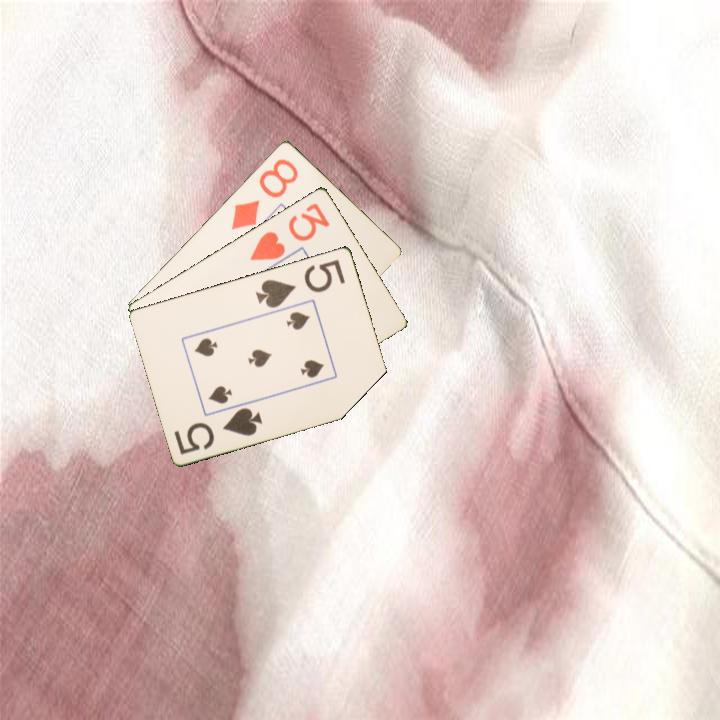3h: (246, 199, 333, 263)
5s: (252, 255, 348, 311), (170, 404, 266, 457)
8d: (228, 155, 301, 233)
